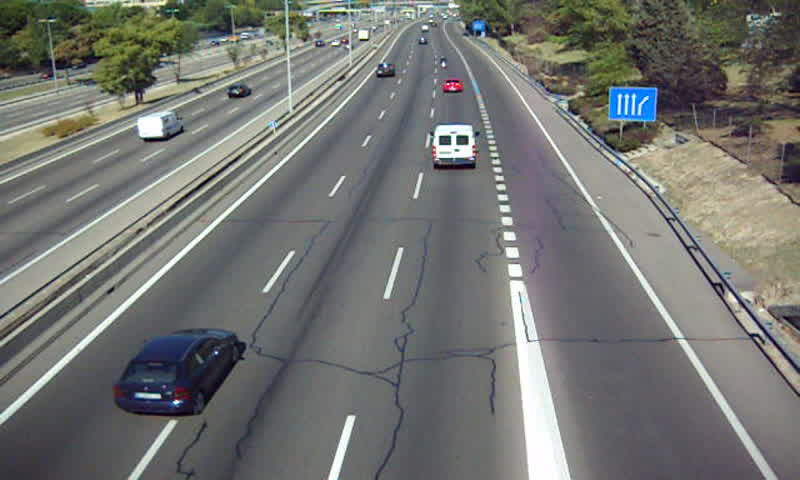car: (116, 328, 240, 417), (443, 77, 464, 95), (375, 62, 396, 79)
motorcycle: (437, 54, 450, 68)
van: (432, 125, 475, 166)
